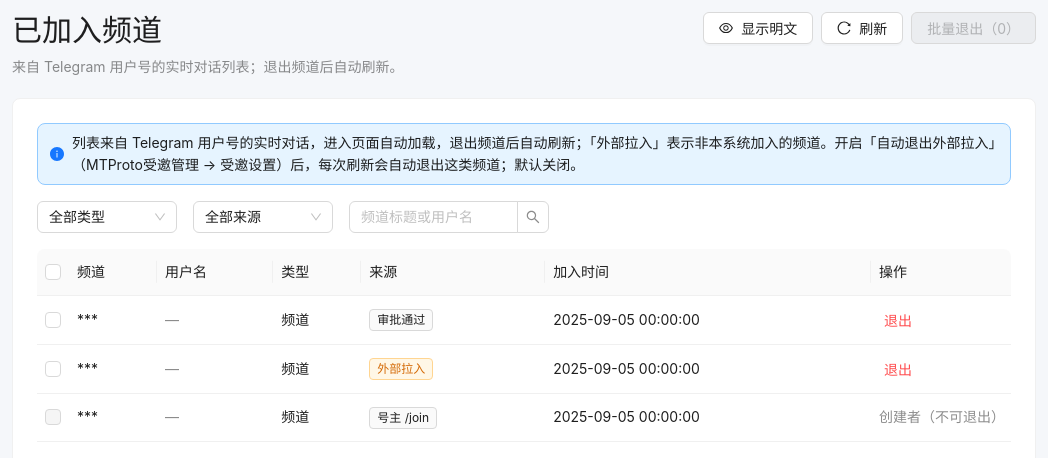
it: 已加入频道页 › 点击刷新后加载列表并渲染来源标签，创建者行禁用退出
Expected: the text "***" is shown 3 times, left=69, top=296, right=157, bottom=344; left=69, top=344, right=157, bottom=394; left=69, top=394, right=157, bottom=442
Step 1. Click the button "显示明文" → point(758, 28), box left=703, top=12, right=813, bottom=44
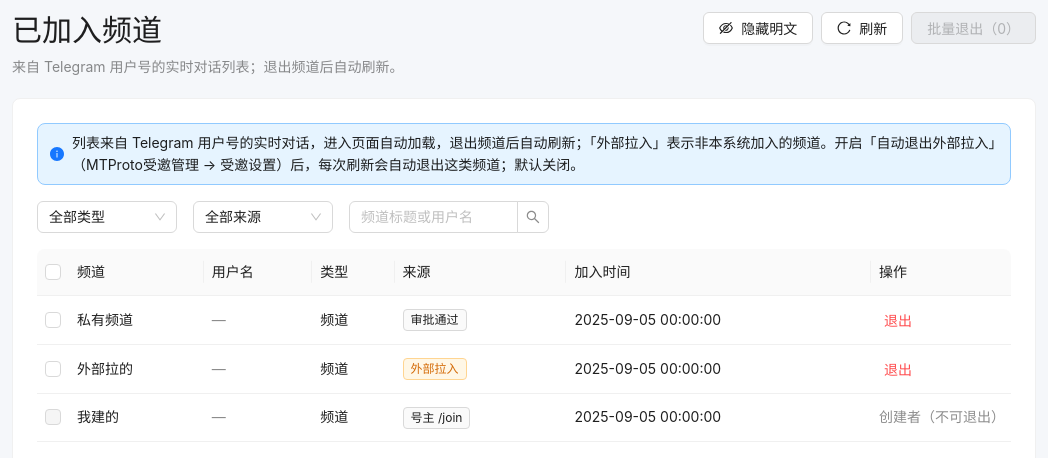
Expected: the text "外部拉入" is shown, left=403, top=358, right=467, bottom=380
Expected: the text "外部拉的" is shown, left=69, top=344, right=204, bottom=394
